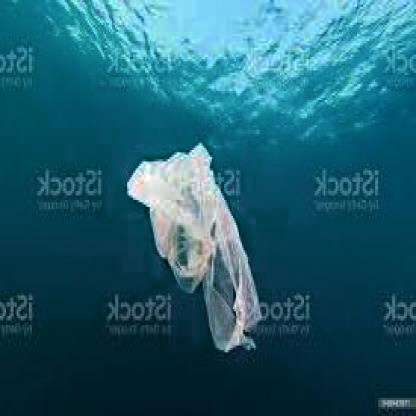pbag: (126, 141, 263, 357)
